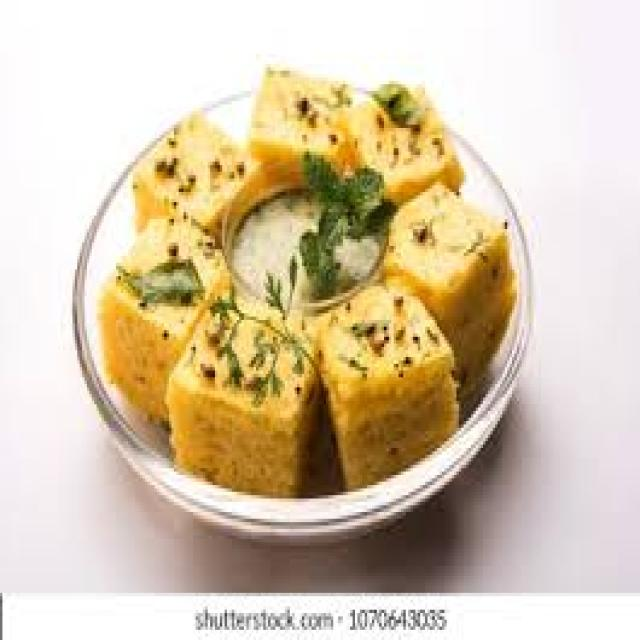DHOKLA: (72, 71, 531, 536), (222, 71, 514, 488), (319, 104, 512, 397), (249, 61, 459, 205), (246, 138, 297, 199)
